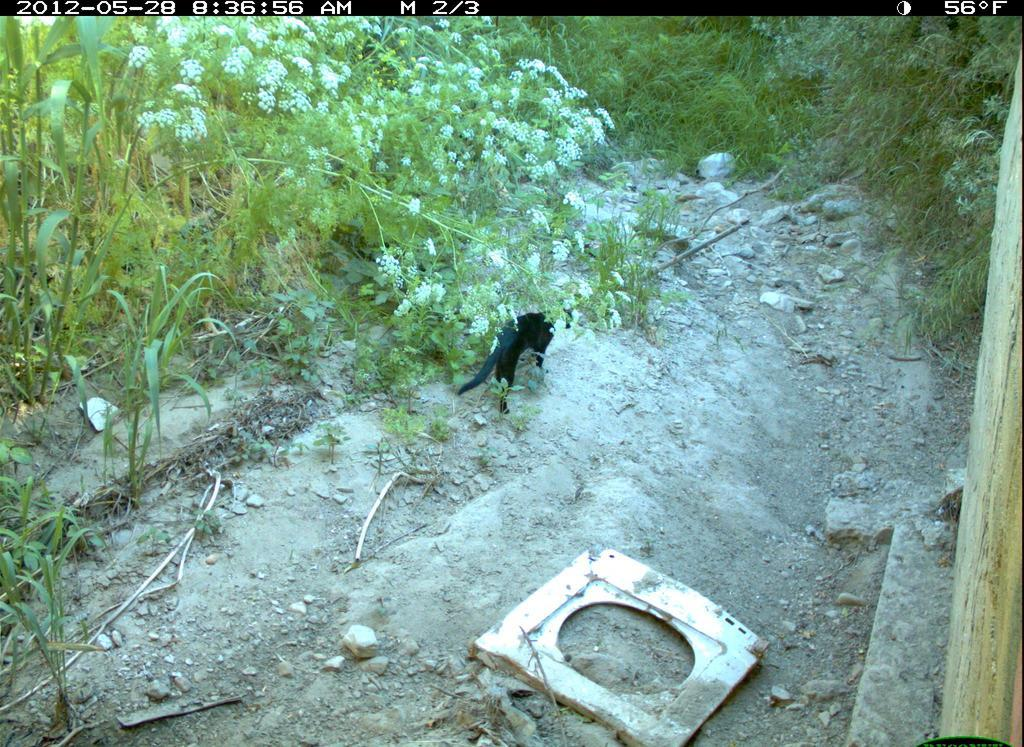cat: (454, 303, 568, 418)
